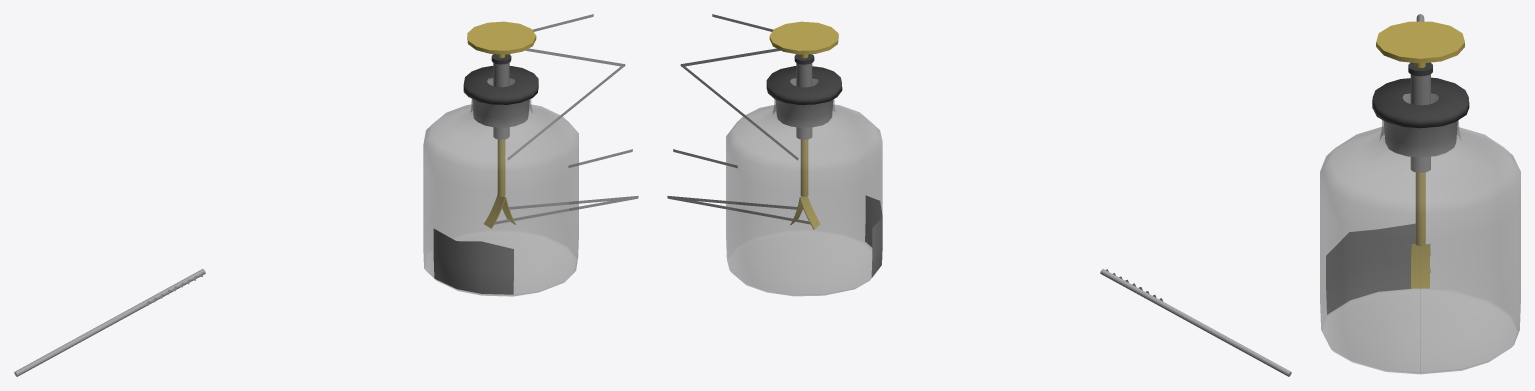
File: Electroscope.fbx
3 renders of one model, left to right at view 1: azimuth 30°, elevation 25°; view 2: azimuth 150°, elevation 25°; view 3: azimuth 270°, elevation 25°, orthographic. The views are drawn at different scales.
Visible parts, largest first — view 1: polySurface1, polySurface2, pCylinder2, pCylinder3, pCylinder1; view 2: polySurface1, polySurface2, pCylinder2, pCylinder3, pCylinder1; view 3: polySurface1, polySurface2, pCylinder2, pCylinder1, pCube5.
Boxes of the visible parts, x1=… form: polySurface1: x1=423, y1=78, x2=578, y2=296; polySurface2: x1=463, y1=66, x2=538, y2=127; pCylinder2: x1=467, y1=21, x2=536, y2=196; pCylinder3: x1=14, y1=269, x2=205, y2=376; pCylinder1: x1=491, y1=54, x2=511, y2=139; polySurface1: x1=726, y1=99, x2=882, y2=296; polySurface2: x1=766, y1=66, x2=842, y2=127; pCylinder2: x1=769, y1=21, x2=838, y2=196; pCylinder3: x1=1100, y1=269, x2=1291, y2=376; pCylinder1: x1=794, y1=54, x2=814, y2=139; polySurface1: x1=1320, y1=93, x2=1520, y2=374; polySurface2: x1=1372, y1=77, x2=1469, y2=157; pCylinder2: x1=1376, y1=21, x2=1464, y2=246; pCylinder1: x1=1408, y1=62, x2=1432, y2=172; pCube5: x1=1411, y1=243, x2=1430, y2=288.
Size of the model in its own units: 120 by 42.36 by 25.99.
